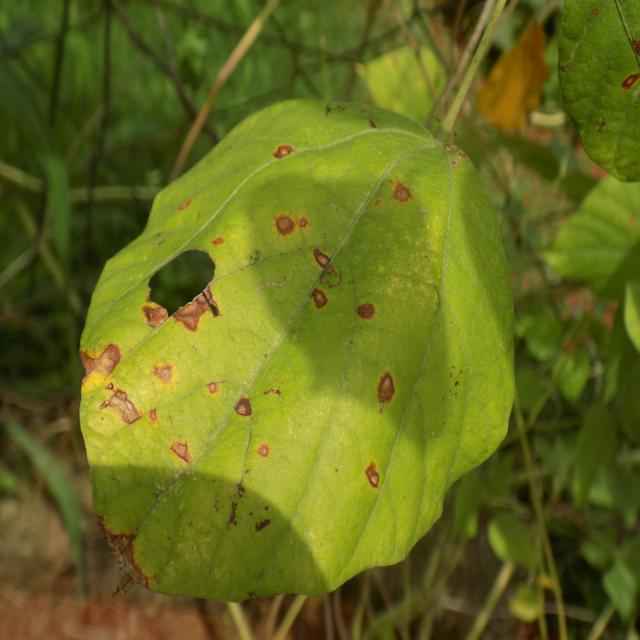Dolicos bean_cercospora leaf spot: (80, 100, 521, 600)
